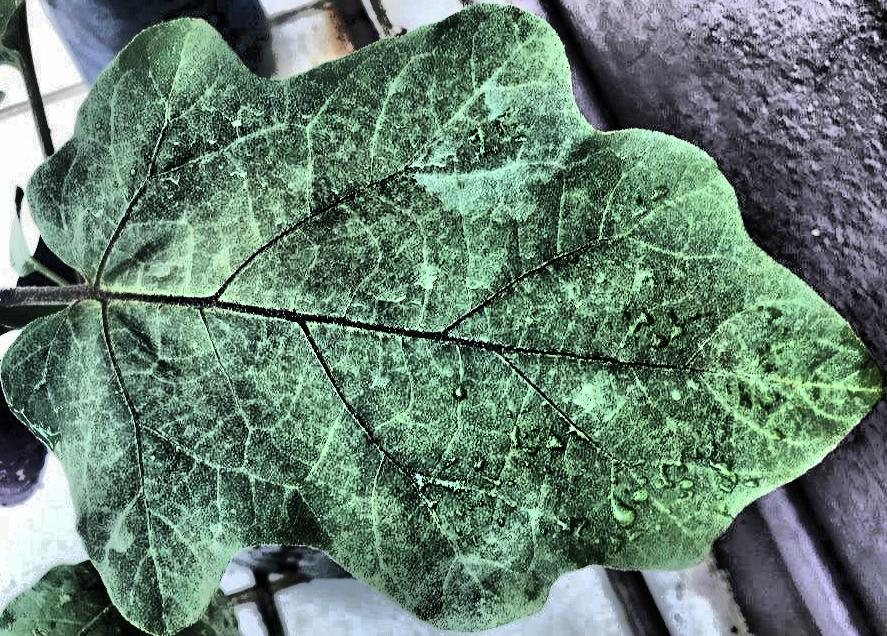HEALTHY: (0, 1, 887, 636)
